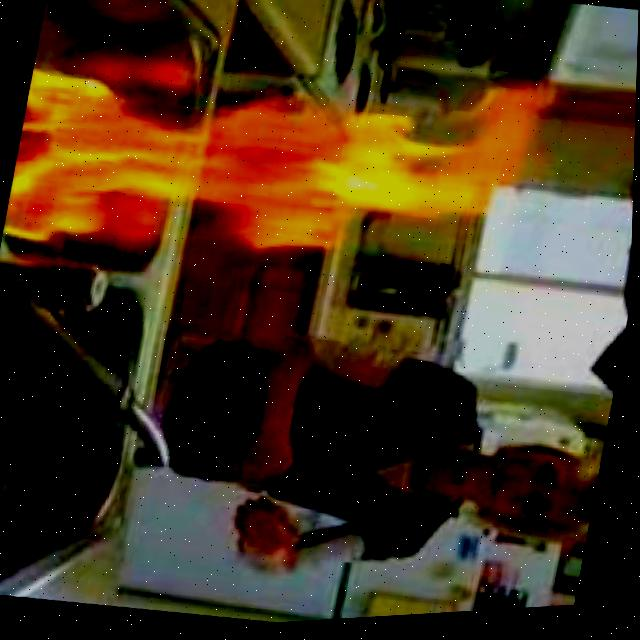Fire: (3, 47, 422, 294), (403, 69, 559, 247)
